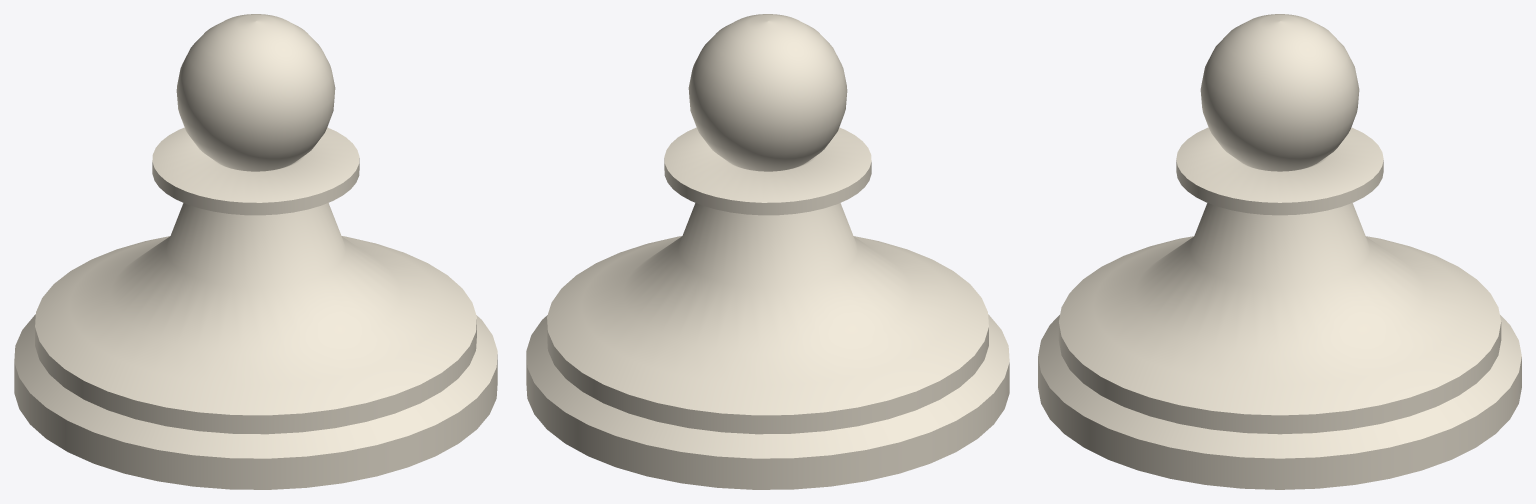
Rendered from WhitePawn.glb.
3 renders of one model, left to right at view 1: azimuth 30°, elevation 25°; view 2: azimuth 150°, elevation 25°; view 3: azimuth 270°, elevation 25°, orthographic.
Visible parts, largest first — view 1: WhitePawn; view 2: WhitePawn; view 3: WhitePawn.
Part boxes in pixels (left/top/right/bottom): WhitePawn: left=14, top=14, right=497, bottom=489; WhitePawn: left=526, top=14, right=1009, bottom=489; WhitePawn: left=1038, top=14, right=1521, bottom=489.
Size of the model in its own units: 0.7 by 0.585 by 0.7.
